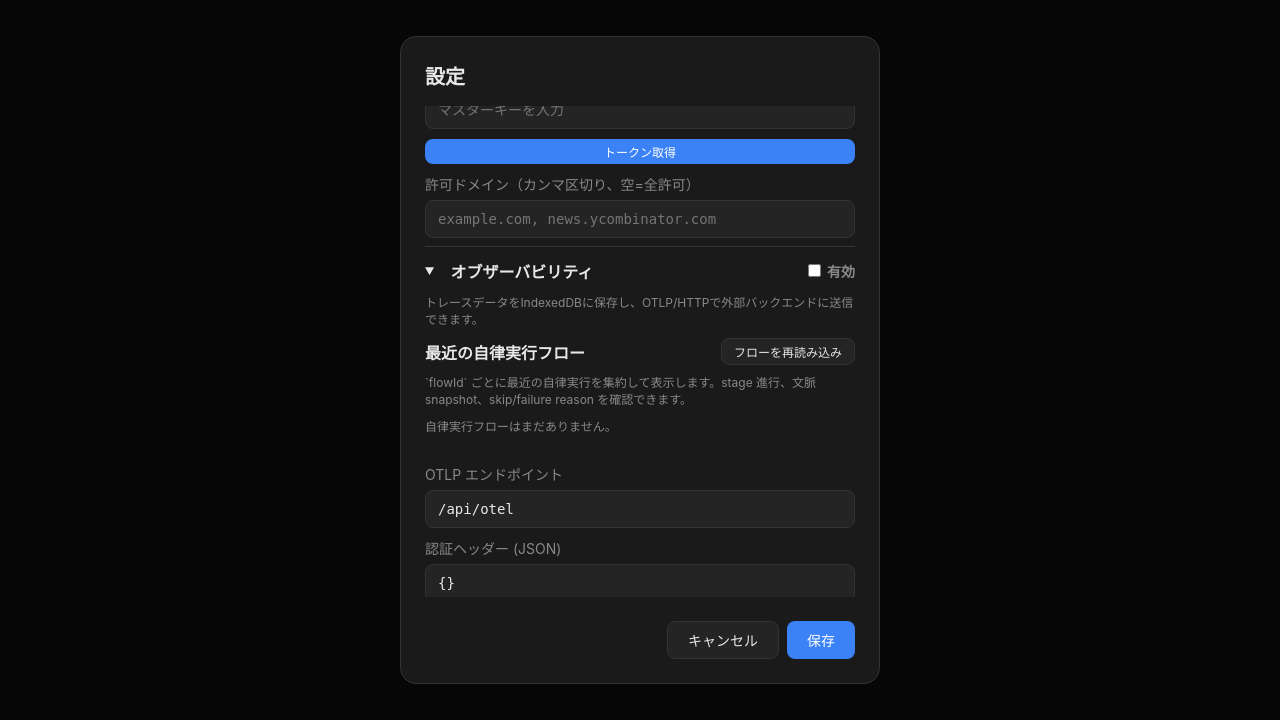
SettingsModal › 自律実行 diagnostics › 再読み込みで最新の flow 一覧を取得する
(page scrolled)
Expected: the text "自律実行フローはまだありません。" is shown, [425, 419, 617, 434]
Expected: the text "最近の自律実行フロー" is shown, [425, 343, 585, 363]
Click the button "フローを再読み込み".
click(788, 352)  # box [721, 338, 855, 366]
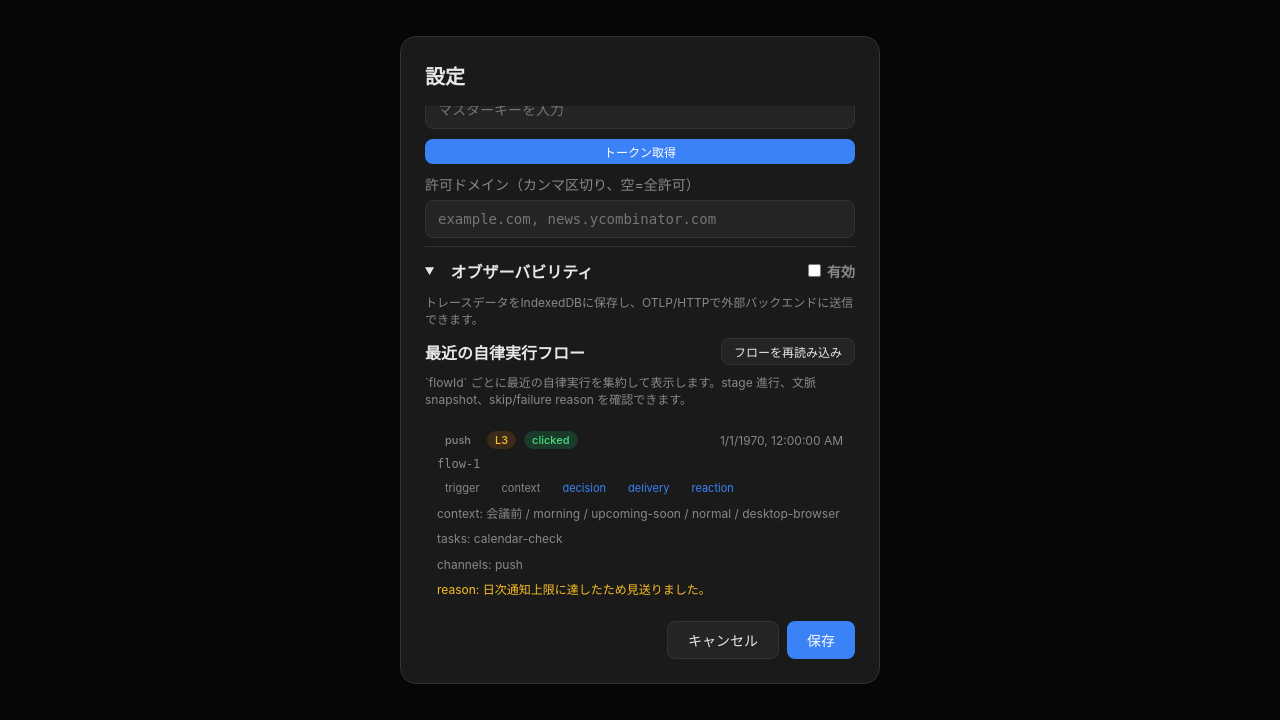
Result: the text "flow-1" is shown at [437, 457, 480, 471]
